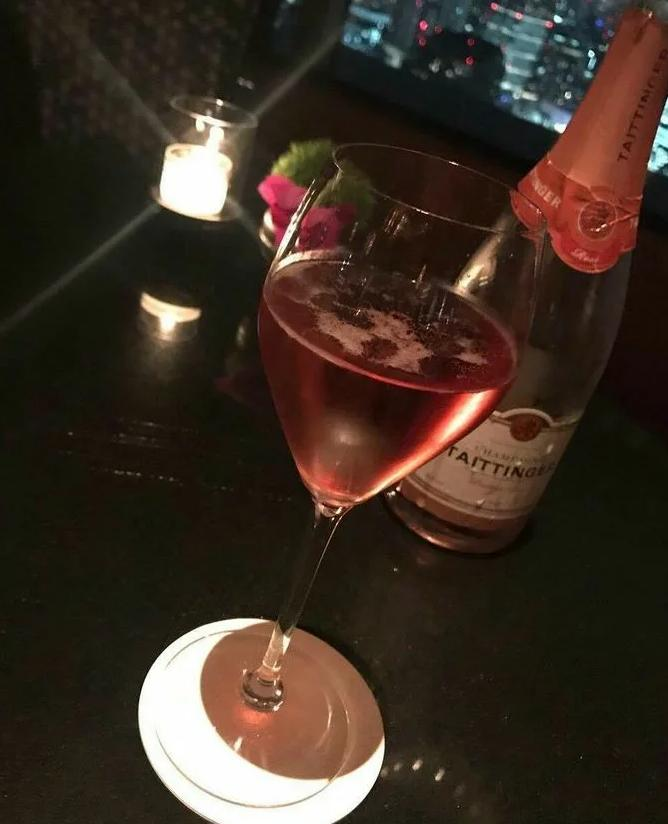wine bottle: (372, 0, 668, 560)
wine label: (396, 404, 574, 536)
